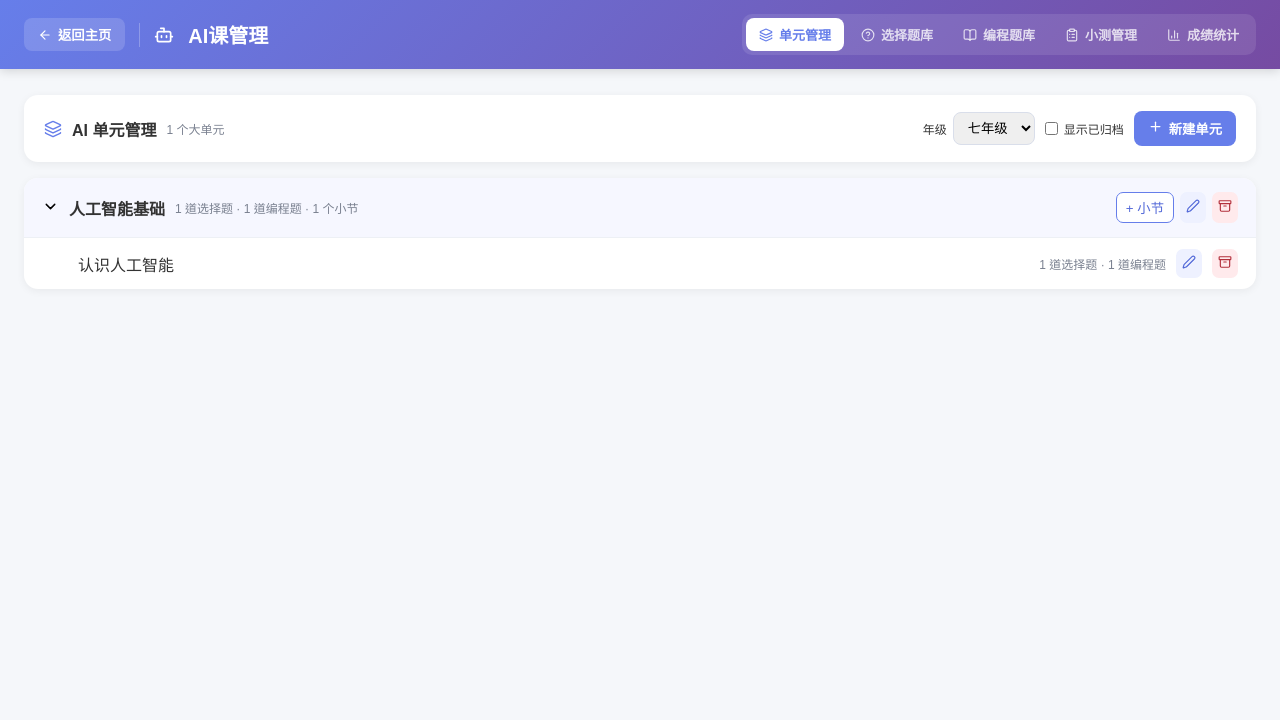
Scenario: AI 教师管理 Step 7 › 小测管理已接入自由组卷，成绩统计保留旧练习数据
The width and height of the screenshot is (1280, 720).
Click the tab "小测管理".
click(1101, 34)  # box [1052,18,1150,51]
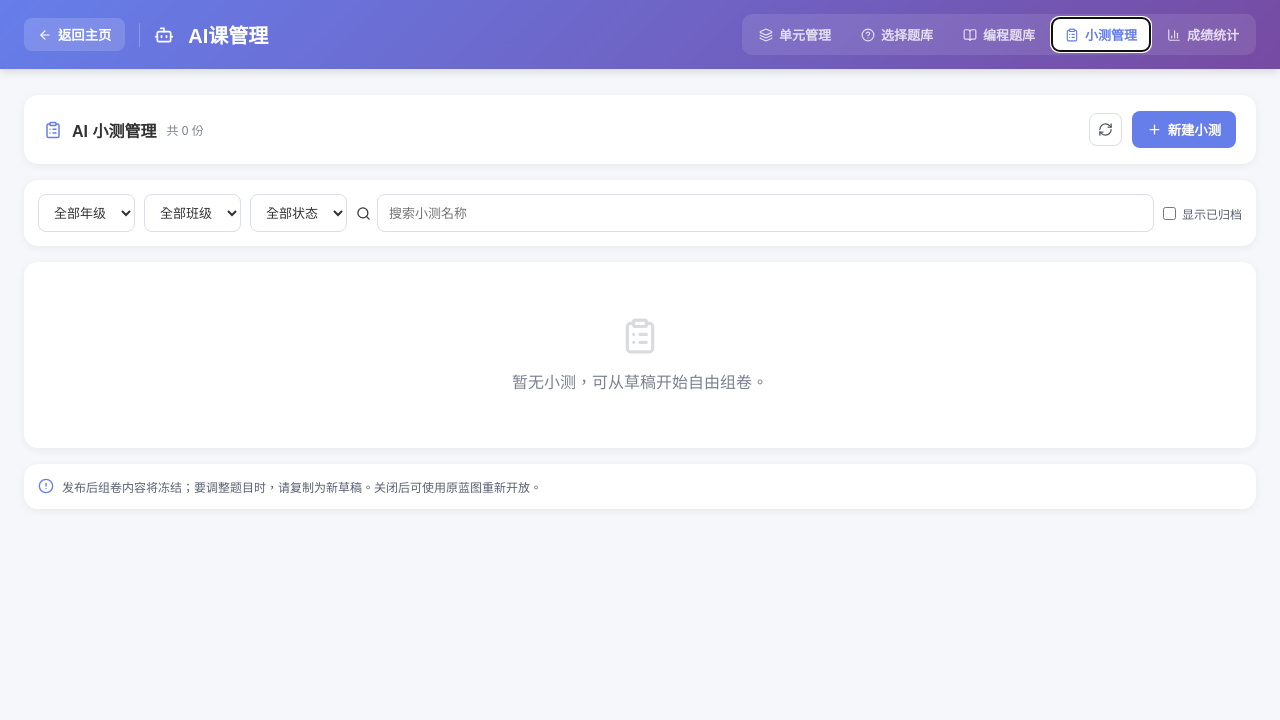
Result: the heading "AI 小测管理" is shown at [72,118,156,142]
Result: the button "新建小测" is shown at [1132,111,1236,148]
Click the tab "成绩统计".
click(1203, 34)  # box [1154,18,1252,51]
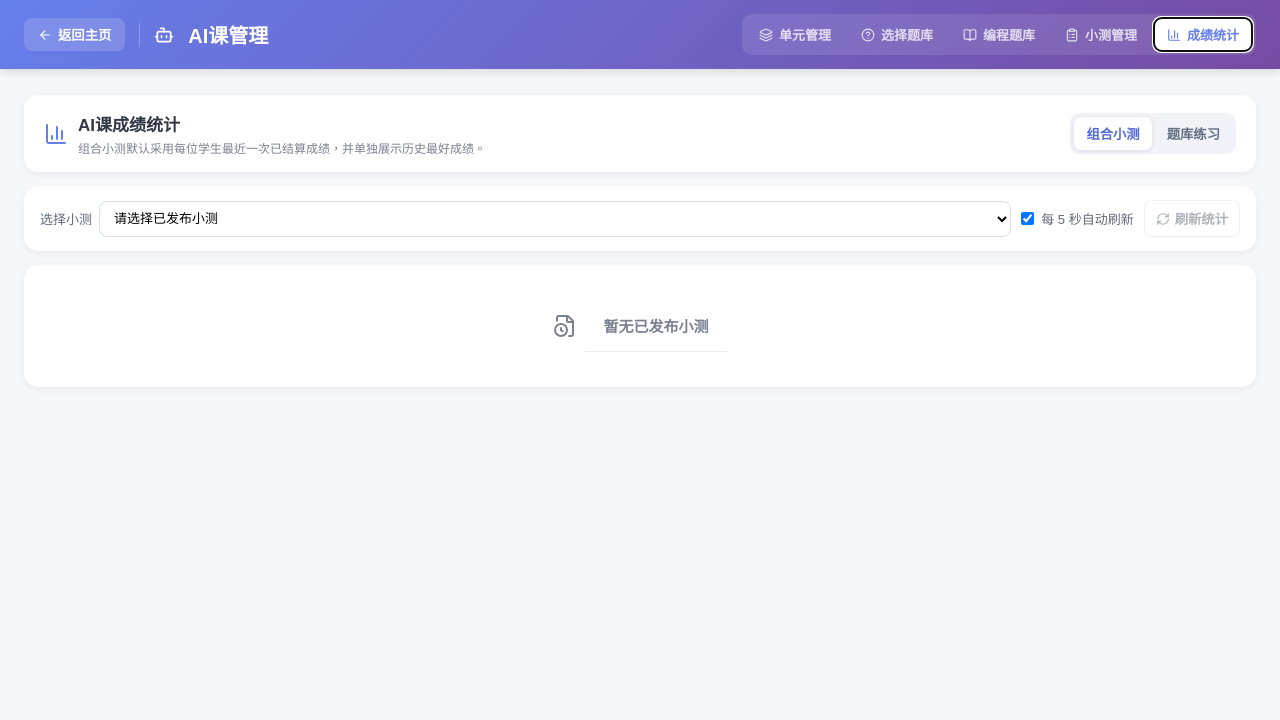
Click the tab "题库练习".
click(1193, 134)  # box [1155,117,1232,150]
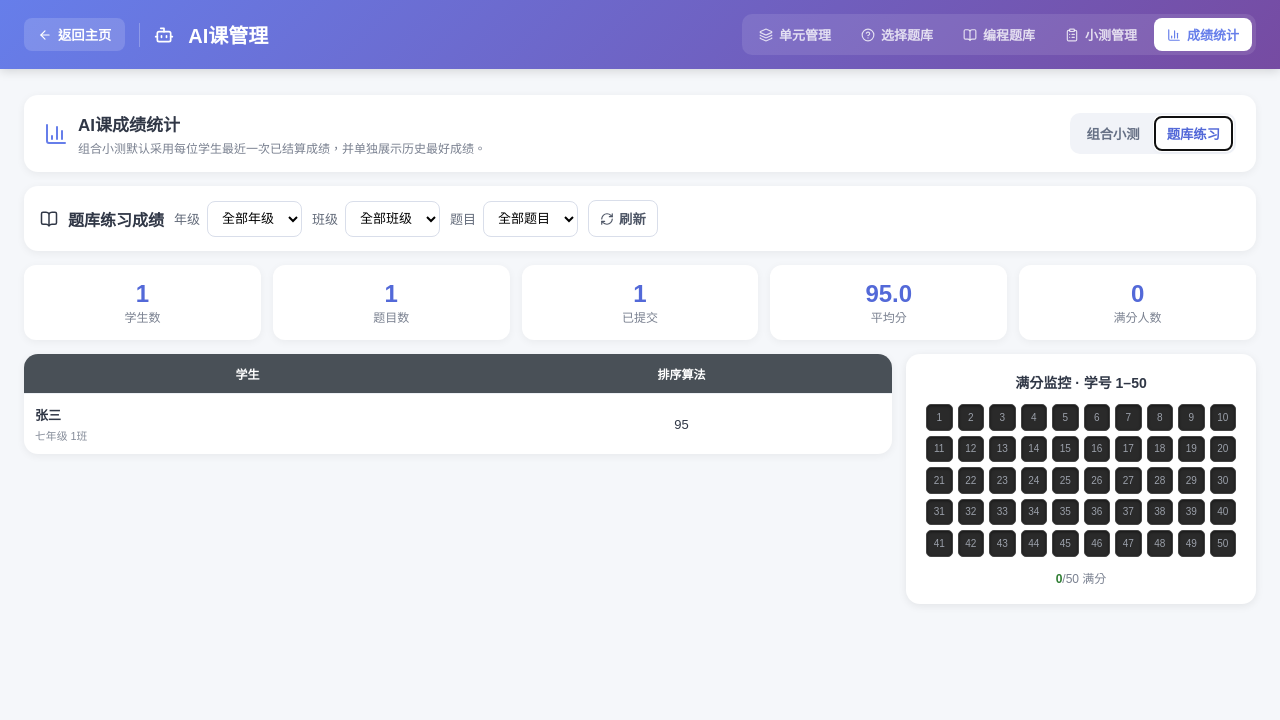
Result: the text "张三" is shown at [35,408,61,423]
Result: the text "95" is shown at [471,394,892,454]
